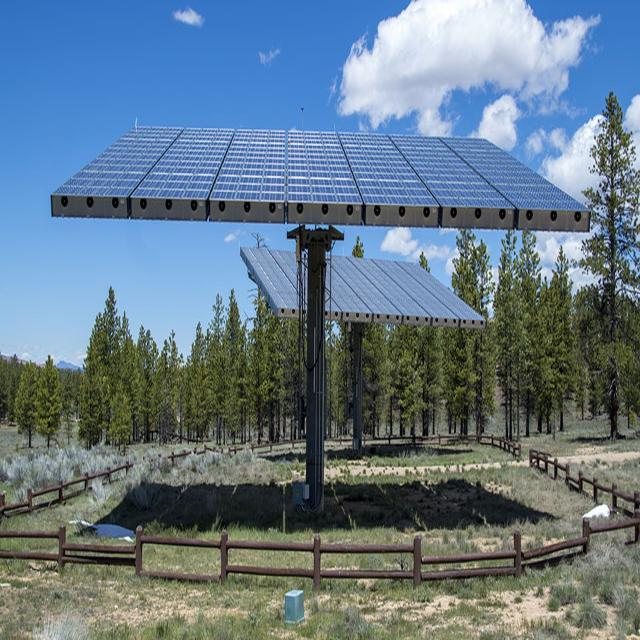clean-solar-panel: (51, 127, 589, 231)
